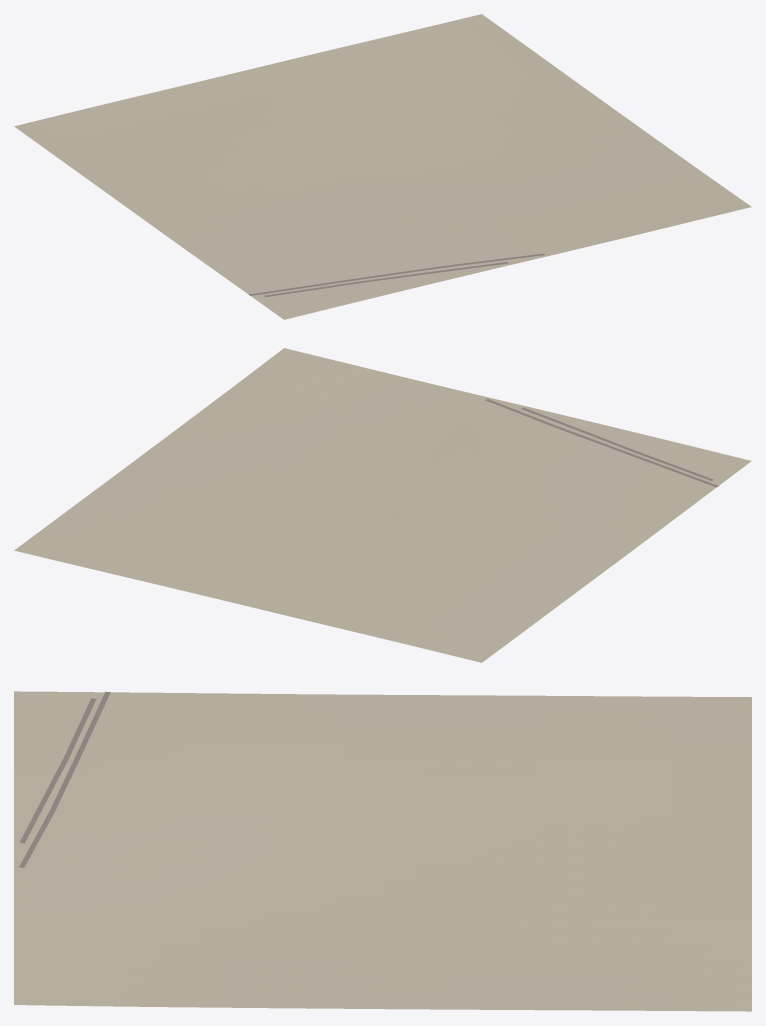
File: bolak_-30_-13.glb
3 renders of one model, top to bottom at view 1: azimuth 30°, elevation 25°; view 2: azimuth 150°, elevation 25°; view 3: azimuth 270°, elevation 25°, orthographic. The views are drawn at different scales.
Parts seen in each view (by area): view 1: Yer_Tuproq-col, Temir_Yol; view 2: Yer_Tuproq-col, Temir_Yol; view 3: Yer_Tuproq-col, Temir_Yol.
Boxes of the visible parts, left/top/right/bottom form: Yer_Tuproq-col: left=14, top=14, right=751, bottom=319; Temir_Yol: left=249, top=253, right=544, bottom=297; Yer_Tuproq-col: left=14, top=348, right=751, bottom=662; Temir_Yol: left=485, top=399, right=718, bottom=487; Yer_Tuproq-col: left=14, top=691, right=751, bottom=1011; Temir_Yol: left=19, top=691, right=110, bottom=867.
Size of the model in its own units: 401 by 5.01 by 400.
